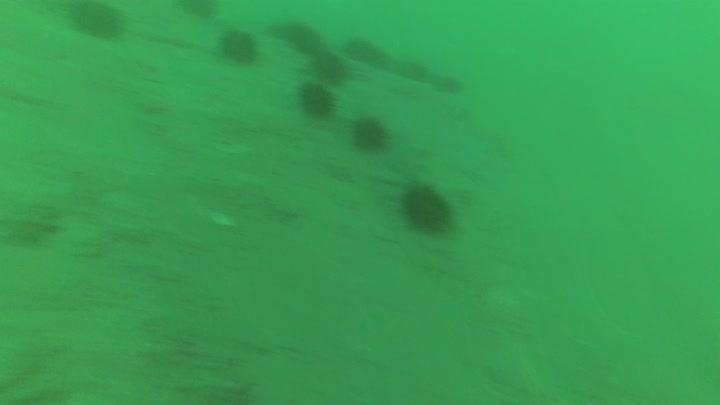echinus: (397, 180, 456, 237), (66, 1, 128, 44), (272, 18, 327, 56), (343, 30, 398, 68), (380, 46, 435, 84), (348, 113, 393, 155), (216, 26, 261, 68), (296, 80, 338, 121), (309, 49, 350, 86), (175, 1, 221, 22), (432, 71, 466, 97)
